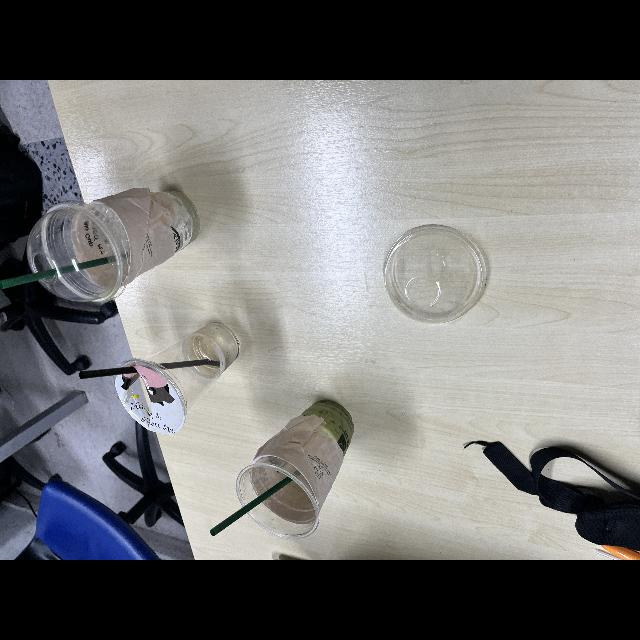plastic_cup: (227, 390, 361, 554), (113, 309, 250, 455), (49, 180, 225, 282)
plastic_cup_lid: (386, 224, 500, 330), (14, 220, 134, 304)
straw: (206, 466, 306, 540), (76, 351, 222, 395), (2, 247, 128, 293)
